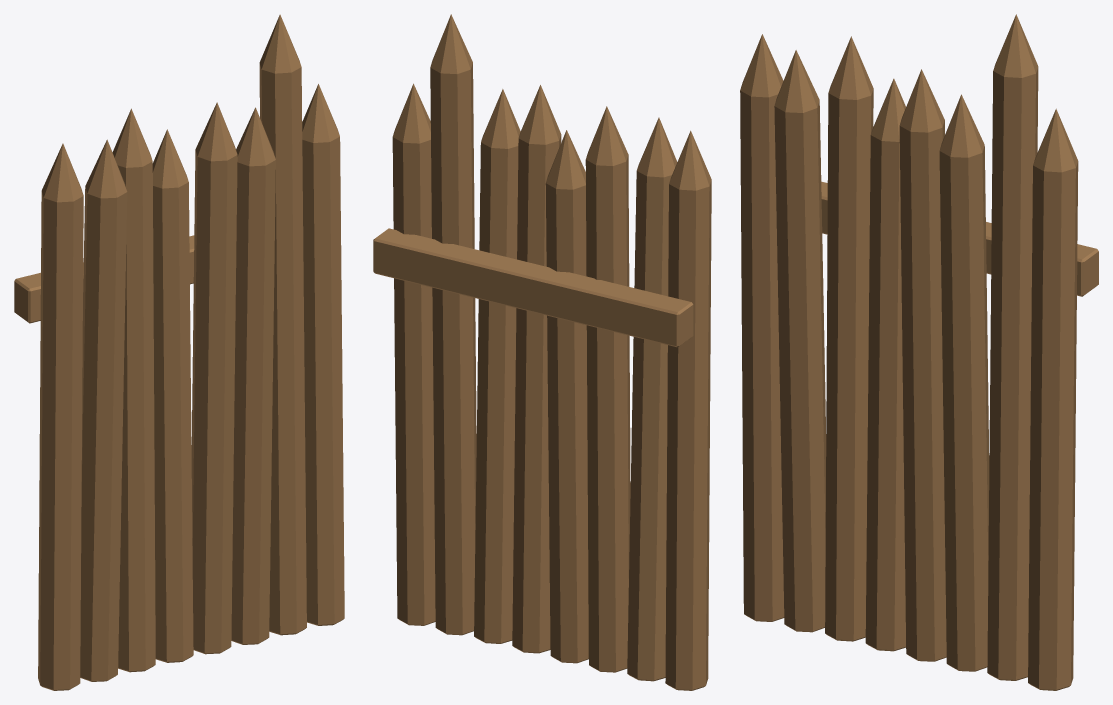
File: palisade_seg_b.glb
The picture shows the model from 3 angles, left to right: view 1: azimuth 30°, elevation 25°; view 2: azimuth 150°, elevation 25°; view 3: azimuth 330°, elevation 25°; orthographic projection. The views are drawn at different scales.
Visible parts, largest first — view 1: palisade_seg_b; view 2: palisade_seg_b; view 3: palisade_seg_b.
Boxes of the visible parts, box(x1,y1,x2,y2) form: palisade_seg_b: box(14, 14, 344, 690); palisade_seg_b: box(373, 14, 711, 690); palisade_seg_b: box(740, 14, 1098, 690).
Bounding box in the file's own units: 2 × 3.85 × 0.5421.
